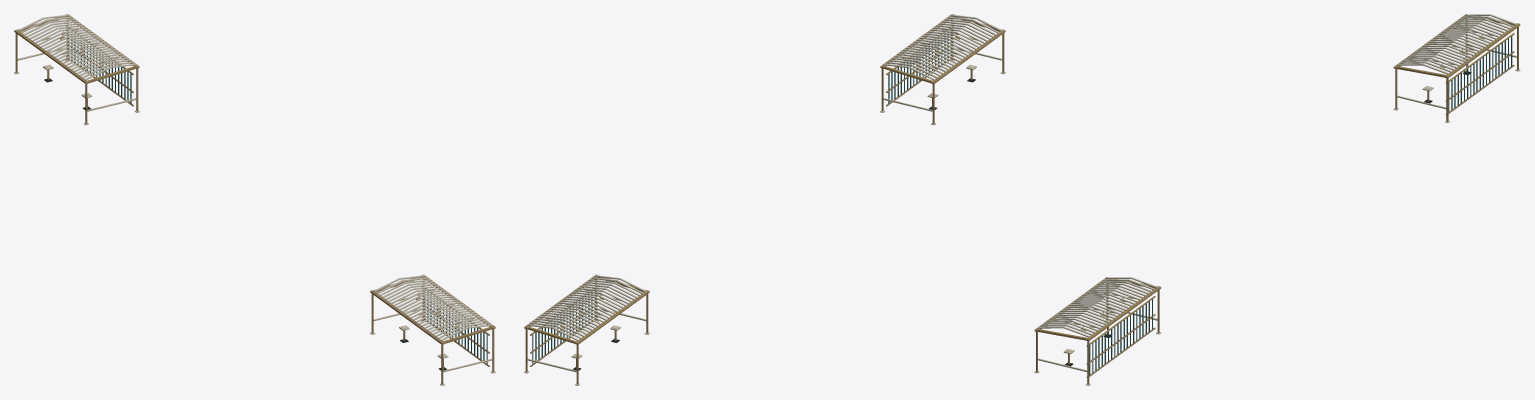
The model's file is Group6ThermalRecovery_03_r003.glb.
3 views of the same model, side by side, from view 1: azimuth 30°, elevation 25°; view 2: azimuth 150°, elevation 25°; view 3: azimuth 330°, elevation 25° (orthographic).
Size of the model in its own units: 3.52 by 3.12 by 48.06.
Materials: 6 (5 with a texture image).
